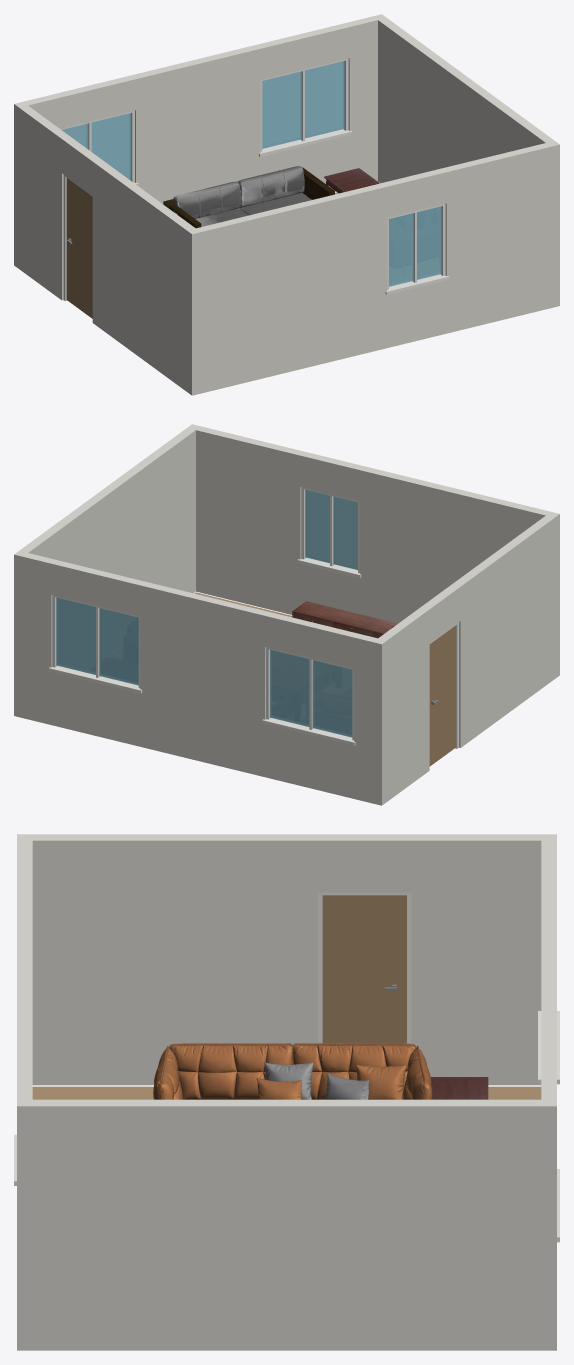
The model's file is diffuscene.glb.
The picture shows the model from 3 angles, top to bottom: view 1: azimuth 30°, elevation 25°; view 2: azimuth 150°, elevation 25°; view 3: azimuth 270°, elevation 25°; orthographic projection. The views are drawn at different scales.
Parts seen in each view (by area): view 1: wall|scenesmith_043__R00|0, wall|scenesmith_043__R00|1, wall|scenesmith_043__R00|2, wall|scenesmith_043__R00|3, wall|scenesmith_043__R00|1 Window 0 | glazing, raw_model.005, wall|scenesmith_043__R00|0 Window 0 | glazing, wall|scenesmith_043__R00|2 Door 0 | wood leaf, wall|scenesmith_043__R00|1 Window 0 | jamb, wall|scenesmith_043__R00|0 Window 0 | jamb, raw_model.001, wall|scenesmith_043__R00|2 Door 0 | jamb; view 2: wall|scenesmith_043__R00|1, wall|scenesmith_043__R00|0, wall|scenesmith_043__R00|2, wall|scenesmith_043__R00|3, wall|scenesmith_043__R00|1 Window 0 | glazing, wall|scenesmith_043__R00|1 Window 0 | jamb, wall|scenesmith_043__R00|0 Window 0 | glazing, wall|scenesmith_043__R00|2 Door 0 | wood leaf, raw_model.004, wall|scenesmith_043__R00|0 Window 0 | jamb; view 3: wall|scenesmith_043__R00|3, wall|scenesmith_043__R00|2, raw_model, wall|scenesmith_043__R00|2 Door 0 | wood leaf, wall|scenesmith_043__R00|1, wall|scenesmith_043__R00|0, floor, wall|scenesmith_043__R00|2 Door 0 | jamb, raw_model.001, wall|scenesmith_043__R00|1 Window 0 | jamb.
Boxes of the visible parts, x1,y1,x2,y2 form: wall|scenesmith_043__R00|0: (196, 141, 559, 393); wall|scenesmith_043__R00|1: (14, 14, 386, 268); wall|scenesmith_043__R00|2: (14, 102, 200, 395); wall|scenesmith_043__R00|3: (378, 18, 559, 307); wall|scenesmith_043__R00|1 Window 0 | glazing: (62, 61, 344, 180); raw_model.005: (163, 166, 334, 228); wall|scenesmith_043__R00|0 Window 0 | glazing: (389, 206, 441, 286); wall|scenesmith_043__R00|2 Door 0 | wood leaf: (66, 178, 92, 318); wall|scenesmith_043__R00|1 Window 0 | jamb: (60, 58, 352, 186); wall|scenesmith_043__R00|0 Window 0 | jamb: (385, 203, 449, 294); raw_model.001: (324, 168, 379, 193); wall|scenesmith_043__R00|2 Door 0 | jamb: (63, 175, 92, 301); wall|scenesmith_043__R00|1: (14, 551, 386, 805); wall|scenesmith_043__R00|0: (188, 424, 550, 623); wall|scenesmith_043__R00|2: (373, 512, 559, 801); wall|scenesmith_043__R00|3: (19, 424, 199, 593); wall|scenesmith_043__R00|1 Window 0 | glazing: (56, 597, 352, 737); wall|scenesmith_043__R00|1 Window 0 | jamb: (48, 595, 355, 745); wall|scenesmith_043__R00|0 Window 0 | glazing: (305, 489, 357, 569); wall|scenesmith_043__R00|2 Door 0 | wood leaf: (429, 625, 455, 766); raw_model.004: (292, 601, 397, 638); wall|scenesmith_043__R00|0 Window 0 | jamb: (297, 487, 361, 578); wall|scenesmith_043__R00|3: (17, 1099, 556, 1350); wall|scenesmith_043__R00|2: (17, 834, 556, 1085); raw_model: (153, 1043, 432, 1099); wall|scenesmith_043__R00|2 Door 0 | wood leaf: (322, 895, 406, 1043); wall|scenesmith_043__R00|1: (541, 840, 556, 1350); wall|scenesmith_043__R00|0: (17, 840, 32, 1106); floor: (32, 1086, 541, 1099); wall|scenesmith_043__R00|2 Door 0 | jamb: (318, 892, 411, 1043); raw_model.001: (431, 1077, 488, 1099); wall|scenesmith_043__R00|1 Window 0 | jamb: (538, 1011, 559, 1242).
Size of the model in its own units: 6.2 by 2.61 by 5.26.
Materials: 12 (6 with a texture image).
